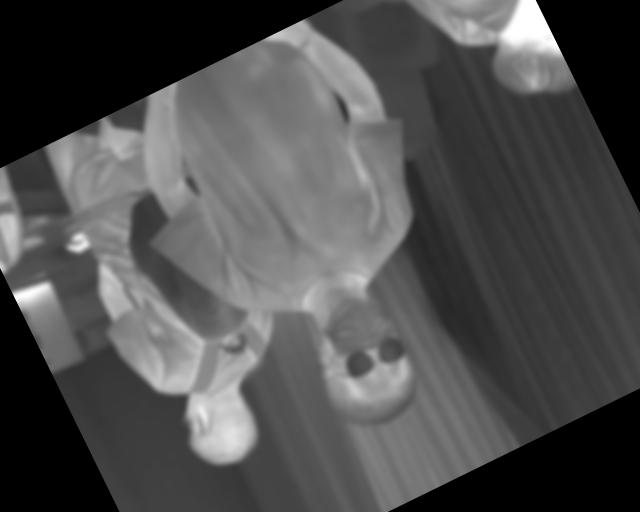face: (289, 285, 433, 444)
